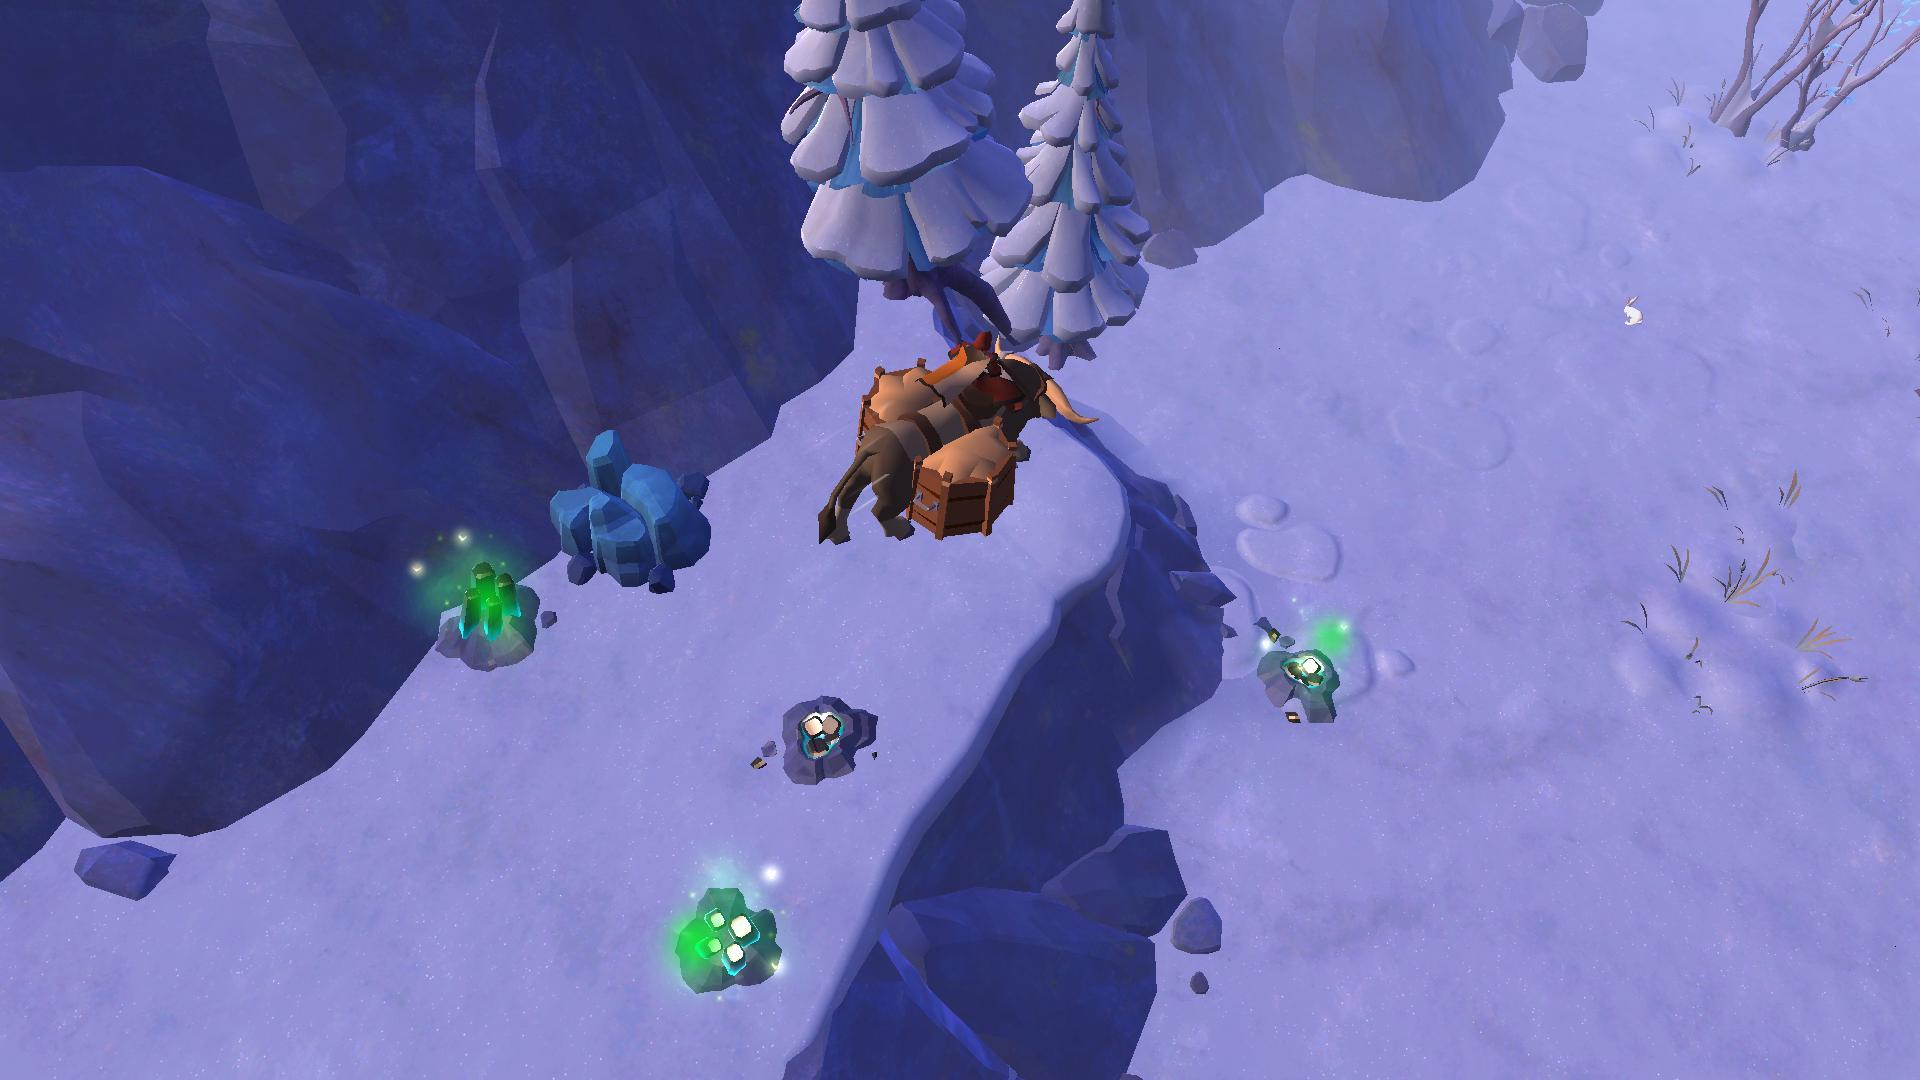rock_t4: (543, 442, 712, 583)
